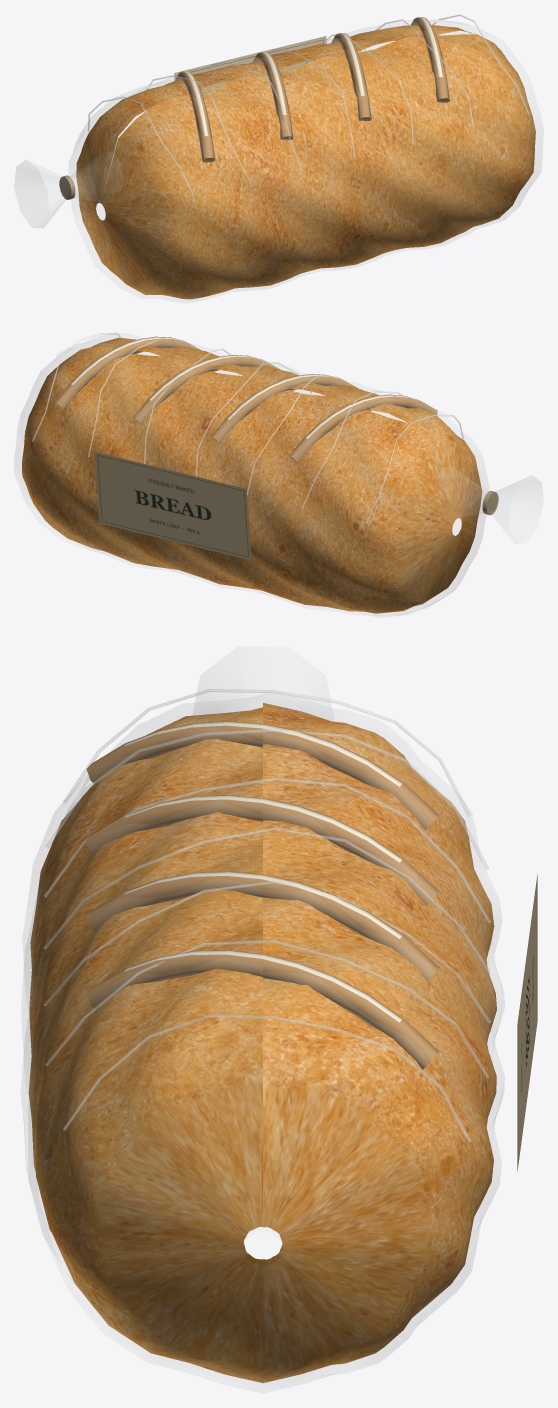
Rendered from bread.glb.
The picture shows the model from 3 angles, top to bottom: view 1: azimuth 30°, elevation 25°; view 2: azimuth 150°, elevation 25°; view 3: azimuth 270°, elevation 25°; orthographic projection. The views are drawn at different scales.
Parts seen in each view (by area): view 1: library-bread-baked-loaf, library-bread-shop-plastic, library-bread-shop-scoreShade, library-bread-shop-plasticEdge, library-bread-shop-score, library-bread-bread-paper-label; view 2: library-bread-baked-loaf, library-bread-bread-paper-label, library-bread-shop-plastic, library-bread-shop-scoreShade, library-bread-shop-plasticEdge, library-bread-shop-score; view 3: library-bread-baked-loaf, library-bread-shop-scoreShade, library-bread-shop-plastic, library-bread-shop-plasticEdge, library-bread-shop-score, library-bread-bread-paper-label.
Part boxes in pixels (x1=…): library-bread-baked-loaf: x1=76, y1=25, x2=535, y2=299; library-bread-shop-plastic: x1=14, y1=19, x2=543, y2=302; library-bread-shop-scoreShade: x1=175, y1=17, x2=449, y2=162; library-bread-shop-plasticEdge: x1=88, y1=14, x2=529, y2=196; library-bread-shop-score: x1=184, y1=17, x2=442, y2=136; library-bread-bread-paper-label: x1=174, y1=36, x2=326, y2=91; library-bread-baked-loaf: x1=22, y1=337, x2=482, y2=613; library-bread-bread-paper-label: x1=94, y1=452, x2=251, y2=560; library-bread-shop-plastic: x1=14, y1=332, x2=543, y2=617; library-bread-shop-scoreShade: x1=54, y1=336, x2=437, y2=463; library-bread-shop-plasticEdge: x1=32, y1=333, x2=463, y2=522; library-bread-shop-score: x1=71, y1=337, x2=420, y2=438; library-bread-baked-loaf: x1=28, y1=703, x2=496, y2=1382; library-bread-shop-scoreShade: x1=86, y1=721, x2=439, y2=1069; library-bread-shop-plastic: x1=21, y1=647, x2=504, y2=1392; library-bread-shop-plasticEdge: x1=44, y1=689, x2=490, y2=1142; library-bread-shop-score: x1=124, y1=722, x2=402, y2=1022; library-bread-bread-paper-label: x1=517, y1=874, x2=537, y2=1171.
Size of the model in its own units: 0.3486 by 0.1351 by 0.1604.
7 materials, 2 textured.
